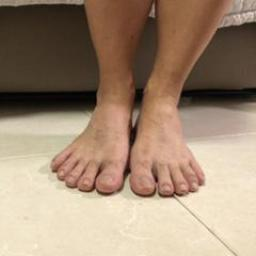Front View -Both Feet-: (37, 62, 223, 220)
